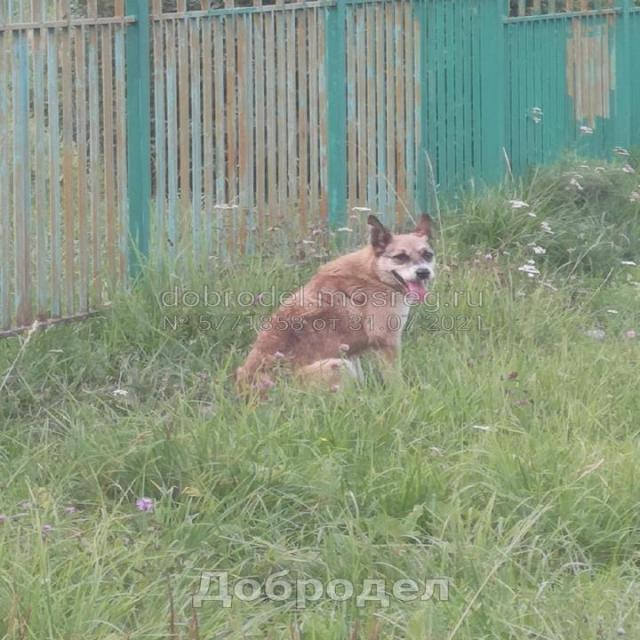dog: (226, 209, 442, 417)
